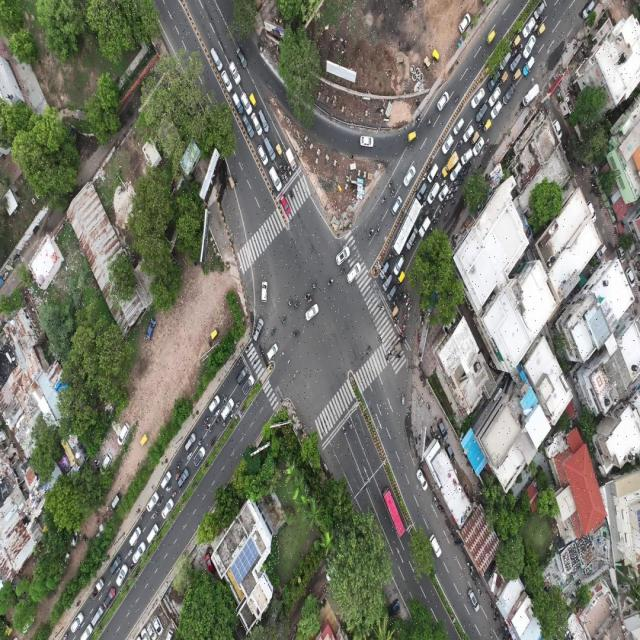3W: (407, 129, 417, 145), (487, 30, 496, 46), (227, 175, 235, 191), (513, 33, 521, 49), (536, 25, 545, 37), (513, 69, 522, 80), (424, 55, 431, 69), (501, 71, 508, 85), (484, 119, 491, 133), (432, 48, 440, 60)
Bus: (395, 197, 423, 253), (382, 486, 405, 535)
Cars: (429, 532, 442, 561), (523, 84, 539, 107), (467, 588, 483, 611), (347, 263, 362, 286), (210, 46, 223, 72), (269, 165, 282, 191), (502, 82, 515, 108), (259, 106, 271, 134), (131, 542, 147, 563), (229, 60, 242, 85), (263, 137, 276, 162), (253, 318, 266, 342), (416, 466, 428, 492), (220, 68, 232, 93), (471, 87, 486, 107), (256, 144, 269, 167), (161, 497, 174, 520), (194, 445, 206, 469), (241, 89, 252, 115), (221, 398, 234, 420), (146, 523, 159, 545), (488, 69, 501, 91), (437, 91, 450, 113), (402, 164, 415, 186), (360, 130, 374, 150), (243, 113, 254, 138), (251, 111, 262, 136), (91, 605, 104, 626), (488, 85, 501, 106), (305, 304, 319, 323), (231, 91, 242, 115), (243, 374, 255, 396), (116, 565, 128, 587), (104, 587, 116, 609), (71, 611, 83, 633), (523, 35, 535, 57), (146, 493, 159, 513), (521, 16, 534, 36), (441, 134, 454, 154), (78, 622, 92, 640), (337, 246, 350, 265), (280, 194, 291, 216), (428, 181, 439, 203), (419, 216, 431, 236), (185, 433, 198, 451), (533, 0, 546, 18), (236, 46, 246, 69), (177, 469, 189, 488), (160, 470, 172, 489), (129, 526, 141, 545), (523, 55, 535, 74), (407, 230, 419, 249), (459, 13, 471, 32), (209, 392, 220, 412), (391, 197, 402, 217), (394, 254, 404, 276), (490, 101, 502, 119), (110, 554, 121, 573), (500, 51, 511, 70), (477, 103, 488, 122), (462, 122, 473, 141), (236, 365, 248, 382), (473, 138, 484, 156), (460, 149, 473, 164), (267, 344, 279, 360), (428, 162, 438, 181), (454, 117, 465, 133), (261, 279, 268, 303), (450, 163, 461, 178), (511, 54, 521, 70), (417, 183, 426, 200), (387, 285, 397, 300), (439, 185, 448, 201), (379, 263, 388, 279), (383, 273, 392, 289)
LCV: (442, 150, 459, 176), (285, 148, 298, 173), (91, 579, 104, 601)
M2W: (401, 390, 407, 409), (152, 508, 160, 520), (368, 226, 375, 239), (395, 351, 403, 362), (271, 326, 278, 338), (176, 460, 184, 470), (287, 296, 293, 309), (294, 299, 300, 312), (385, 350, 391, 363), (157, 496, 164, 507), (292, 329, 301, 337), (307, 295, 315, 304), (419, 316, 425, 328), (386, 345, 392, 357), (272, 186, 277, 200), (129, 559, 134, 573), (165, 484, 172, 494), (186, 450, 193, 460), (280, 315, 287, 325), (375, 226, 382, 236), (140, 510, 146, 521), (198, 436, 204, 447), (261, 346, 267, 357), (427, 116, 433, 127), (457, 139, 463, 150), (204, 416, 211, 425), (221, 418, 228, 427), (328, 278, 335, 287), (339, 268, 346, 277), (289, 189, 294, 201), (128, 547, 134, 557), (211, 437, 217, 447), (311, 281, 317, 291), (391, 186, 397, 196), (454, 95, 460, 105), (485, 137, 490, 149), (171, 487, 176, 498), (228, 412, 233, 423), (210, 426, 216, 435), (214, 408, 220, 417), (215, 415, 221, 424), (305, 291, 311, 300), (388, 180, 394, 189), (388, 252, 394, 261), (418, 215, 424, 224), (443, 211, 449, 220), (422, 172, 428, 181), (478, 121, 484, 130), (281, 173, 286, 183), (381, 194, 386, 204), (176, 472, 182, 480), (398, 333, 404, 341), (451, 197, 457, 205), (403, 311, 408, 320), (405, 298, 410, 307), (417, 333, 421, 344), (424, 210, 430, 217), (433, 217, 439, 224), (539, 15, 545, 22), (287, 165, 291, 175), (284, 173, 288, 183), (223, 394, 227, 404), (236, 399, 240, 409), (441, 178, 446, 186), (518, 43, 523, 51), (279, 162, 283, 171), (207, 422, 211, 431), (404, 292, 410, 298), (454, 185, 460, 191), (516, 30, 522, 36), (437, 209, 442, 216), (449, 188, 454, 195), (434, 174, 439, 181), (533, 24, 538, 31), (512, 49, 517, 56), (402, 324, 406, 332), (427, 162, 431, 170), (430, 208, 436, 213), (395, 296, 399, 303), (394, 316, 398, 323), (424, 194, 428, 201), (441, 204, 445, 211), (446, 195, 450, 202), (450, 192, 454, 199), (455, 180, 459, 187), (460, 180, 464, 187), (459, 172, 463, 179), (464, 169, 468, 176), (409, 303, 412, 312), (392, 301, 396, 307), (399, 292, 403, 298), (395, 321, 399, 327), (431, 215, 435, 221), (469, 161, 473, 167), (284, 164, 287, 171), (463, 166, 467, 171), (423, 201, 426, 207)
Truck: (276, 142, 283, 157)
